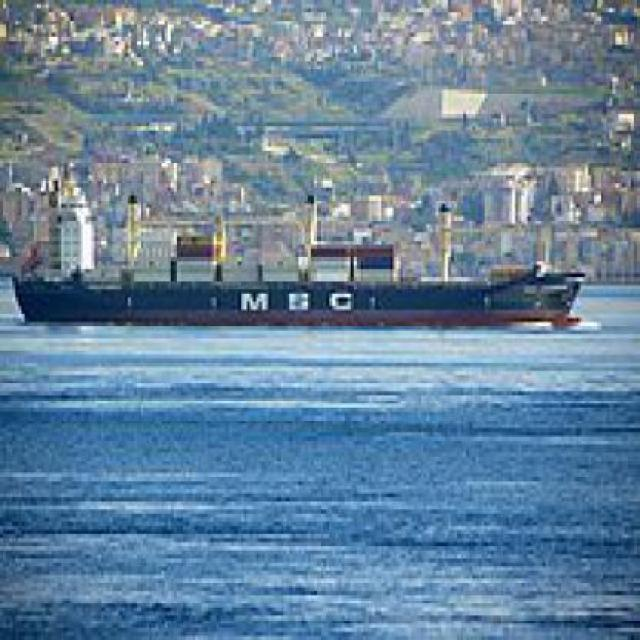container: (7, 254, 593, 340)
